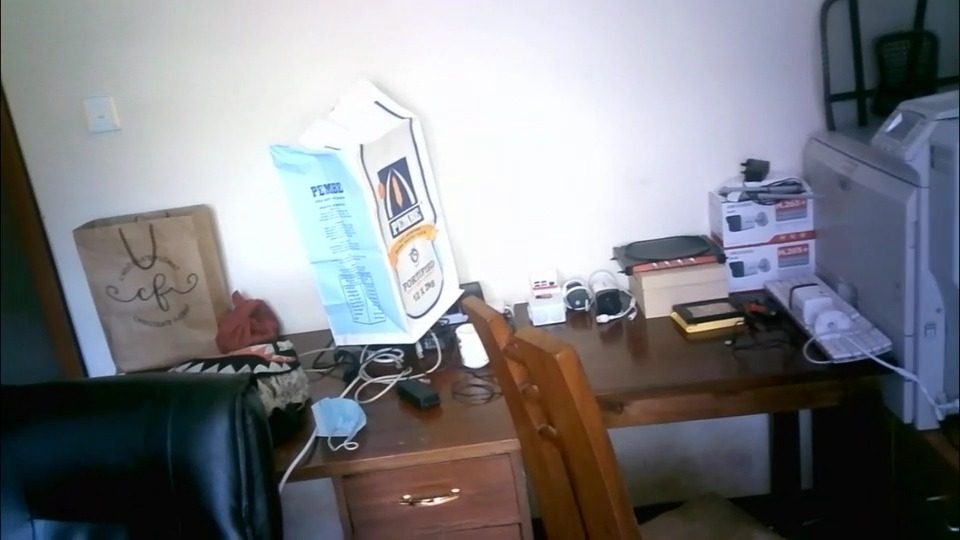wheat_flour_blue_label: (271, 78, 461, 344)
